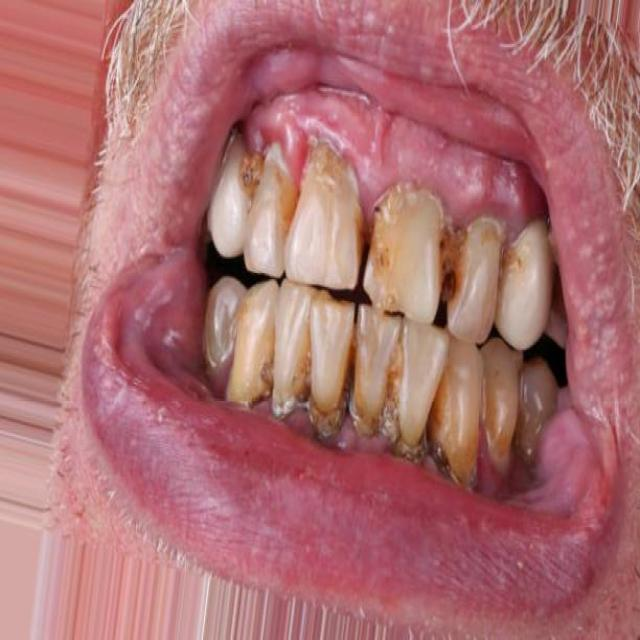caries: (432, 215, 474, 310), (233, 142, 265, 207)
